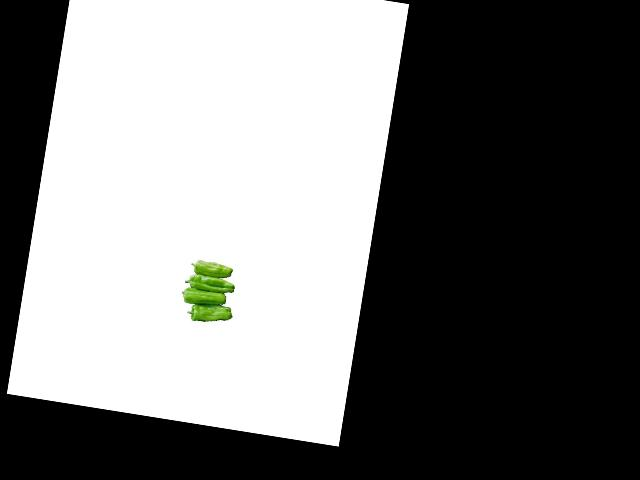bell_pepper: (184, 300, 237, 327)
